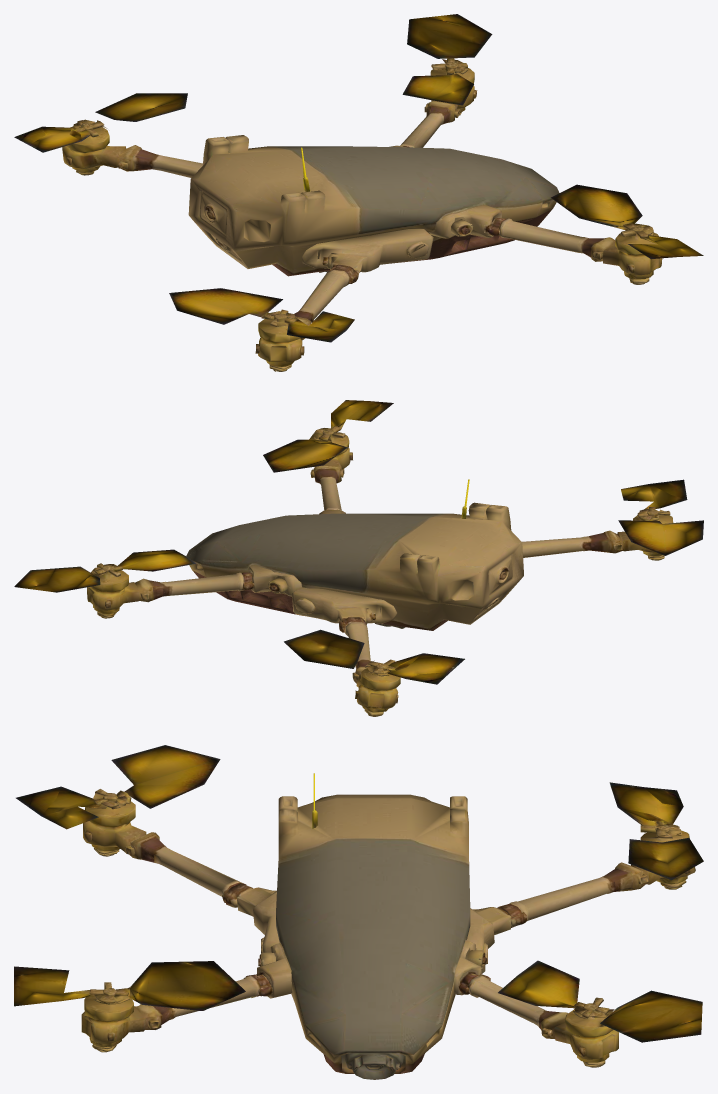
Rendered from recon.glb.
3 views of the same model, one above another, from view 1: azimuth 30°, elevation 25°; view 2: azimuth 150°, elevation 25°; view 3: azimuth 270°, elevation 25° (orthographic). The views are drawn at different scales.
Visible parts, largest first — view 1: tripo_node_d17089a4-3e94-4e8e-b9ad-d14bad47fee2; view 2: tripo_node_d17089a4-3e94-4e8e-b9ad-d14bad47fee2; view 3: tripo_node_d17089a4-3e94-4e8e-b9ad-d14bad47fee2.
Boxes of the visible parts, x1,y1,x2,y2 form: tripo_node_d17089a4-3e94-4e8e-b9ad-d14bad47fee2: (14,14,703,371); tripo_node_d17089a4-3e94-4e8e-b9ad-d14bad47fee2: (14,400,703,716); tripo_node_d17089a4-3e94-4e8e-b9ad-d14bad47fee2: (14,745,703,1079).
Bounding box in the file's own units: 0.9902 × 0.279 × 0.998.
1 material, 1 textured.
